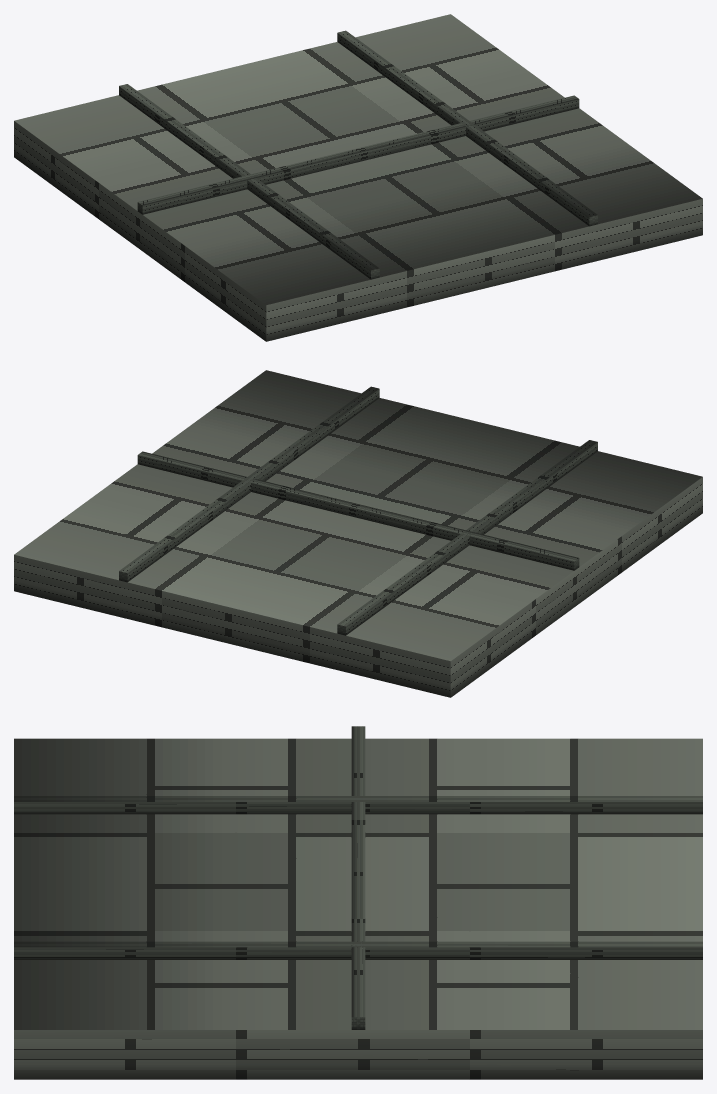
File: floor_flagstone.gltf
The picture shows the model from 3 angles, top to bottom: view 1: azimuth 30°, elevation 25°; view 2: azimuth 150°, elevation 25°; view 3: azimuth 270°, elevation 25°; orthographic projection. The views are drawn at different scales.
Parts seen in each view (by area): view 1: floor_flagstone; view 2: floor_flagstone; view 3: floor_flagstone.
Boxes of the visible parts, x1,y1,x2,y2 form: floor_flagstone: (14,14,702,341); floor_flagstone: (14,370,702,697); floor_flagstone: (14,726,702,1079).
Bounding box in the file's own units: 1 × 0.1 × 1.
1 material, 1 textured.
